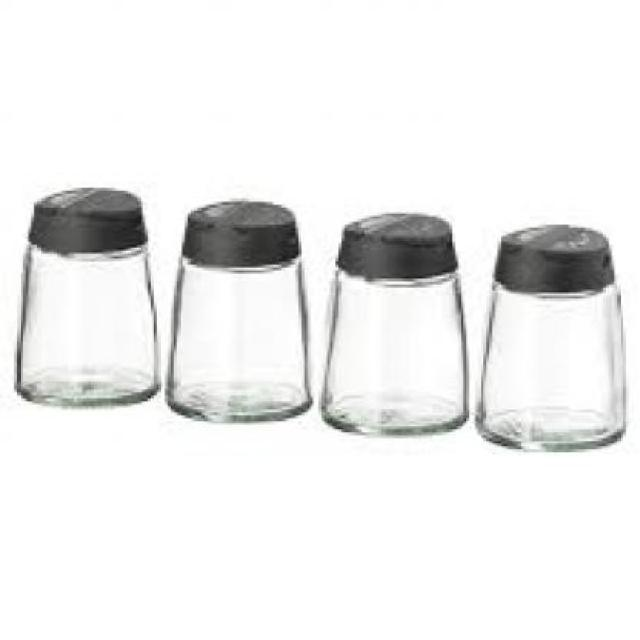kaca: (475, 276, 623, 452), (316, 265, 466, 432), (165, 257, 308, 421), (14, 242, 157, 404)
